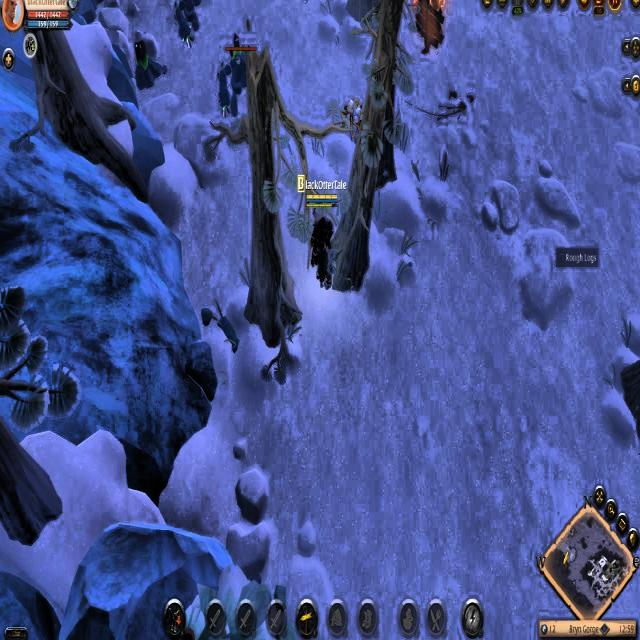tinore: (130, 33, 163, 86)
